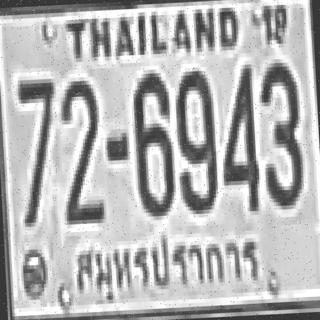N02: (57, 76, 102, 221)
N03: (258, 58, 303, 207)
N04: (217, 60, 260, 208)
N06: (130, 69, 175, 213)
N07: (15, 75, 58, 223)
N09: (172, 67, 217, 211)
P57: (70, 228, 270, 312)
